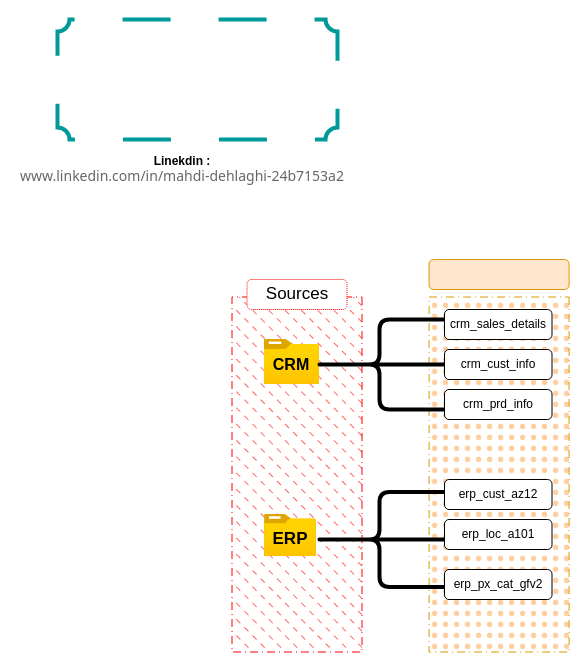
This 587x669 diagram has some shape labels left out. Each missing label, with the centre of its shape:
"Bronze Layer" goes at (498,274).
"DATA FLOW DIAGRAM BY MAHDI DEHLAGHI (DATA ANALYST )" goes at (197,79).
